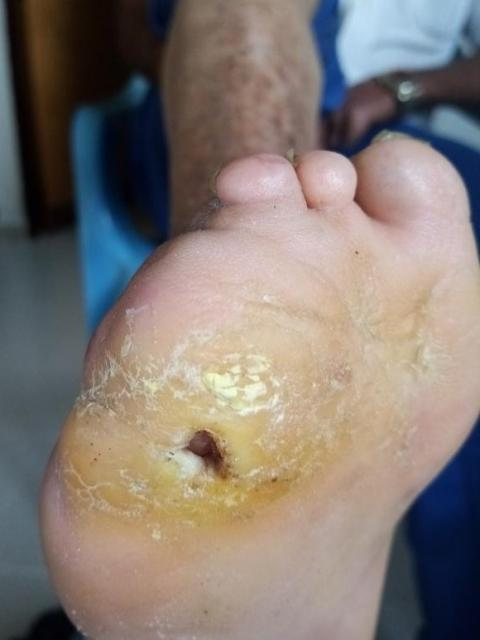wound: (146, 414, 261, 498)
